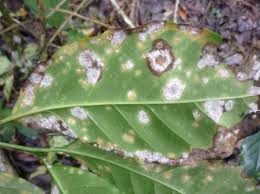ojo de gallo: (24, 50, 239, 133)
